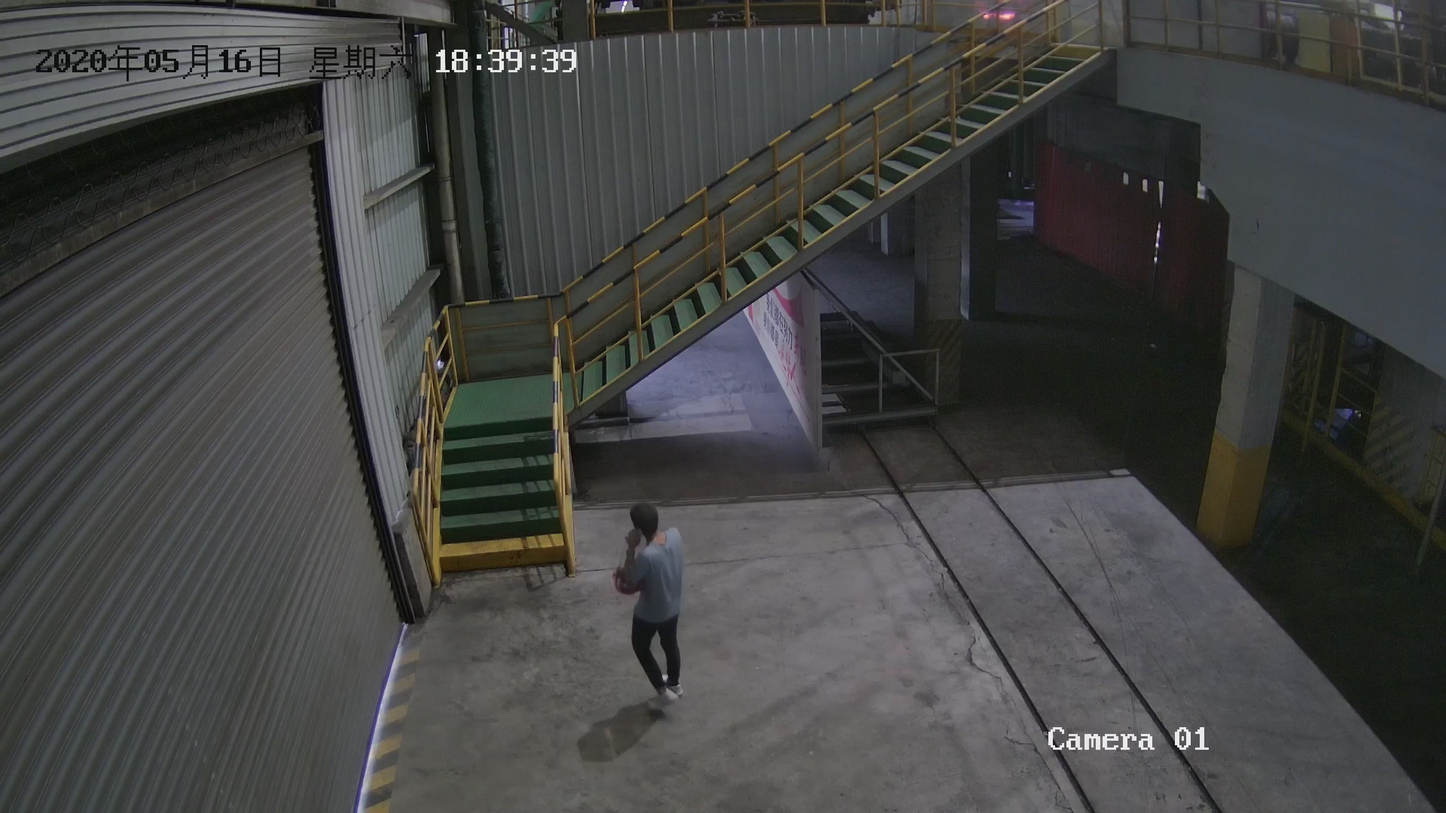head: (628, 499, 660, 535)
person: (606, 491, 694, 713)
